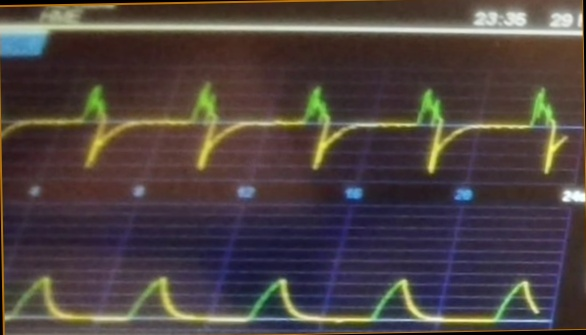Accumulation Flow: (3, 73, 567, 179)
Volume: (6, 256, 540, 329)
